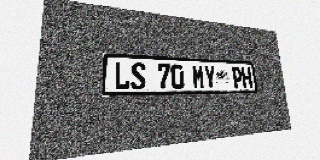0: (170, 64, 184, 89)
7: (157, 63, 171, 89)
H: (241, 67, 253, 88)
L: (114, 61, 130, 90)
M: (192, 65, 205, 89)
P: (231, 67, 243, 89)
S: (131, 62, 146, 90)
Y: (204, 65, 216, 89)
